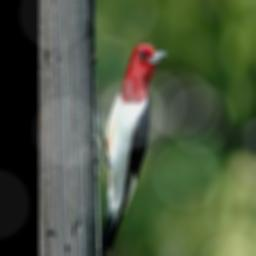Woodpecker: (86, 42, 169, 256)
